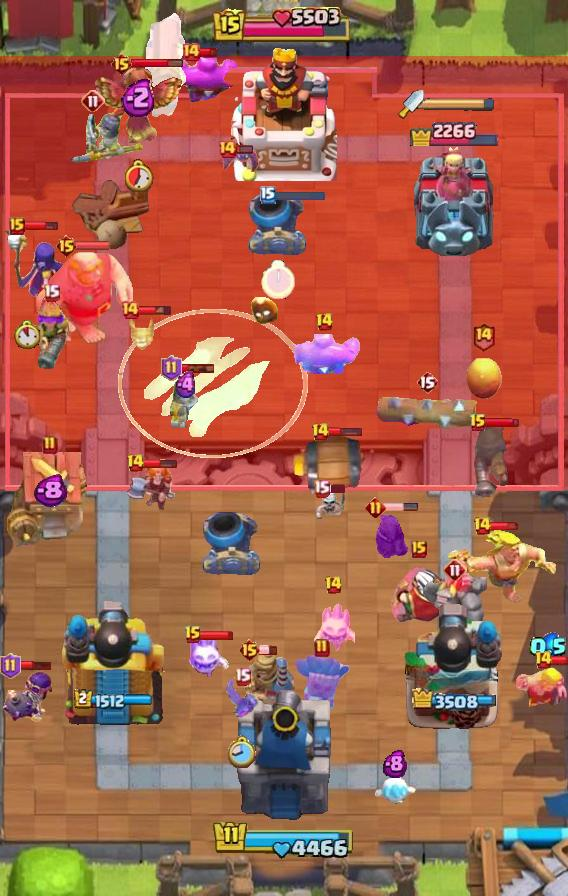bar: (274, 189, 326, 202), (131, 58, 184, 69), (23, 219, 59, 232), (484, 417, 520, 429), (138, 304, 173, 316), (17, 660, 53, 671), (142, 458, 178, 469), (75, 240, 111, 251), (328, 426, 363, 437), (180, 363, 215, 374), (200, 630, 234, 641), (383, 502, 419, 512), (489, 521, 521, 531), (551, 654, 568, 667), (327, 483, 347, 494), (259, 645, 278, 656), (235, 144, 254, 155), (199, 47, 218, 58)
bar-level: (471, 321, 496, 352), (443, 558, 467, 582), (81, 89, 105, 113), (238, 638, 261, 662), (55, 234, 78, 258), (110, 52, 133, 76), (0, 653, 21, 679), (161, 355, 182, 381), (416, 370, 438, 394), (365, 497, 386, 518), (120, 300, 140, 320), (217, 139, 237, 159), (181, 42, 201, 62), (534, 650, 553, 670), (324, 575, 343, 595), (473, 516, 492, 536), (126, 453, 145, 473), (311, 422, 330, 442), (315, 312, 334, 332), (184, 625, 202, 645), (469, 413, 487, 433), (234, 667, 251, 686), (313, 479, 330, 498), (43, 283, 60, 302), (314, 638, 330, 658), (42, 435, 58, 455), (411, 540, 427, 558), (9, 217, 25, 235), (260, 186, 276, 204)
barbarian: (516, 663, 568, 707)
barbarian-barrel: (291, 436, 371, 496)
bat: (221, 148, 261, 174)
bat-evolution: (224, 675, 260, 721)
bomber-evolution: (0, 669, 54, 725)
cannoneer-tower: (58, 595, 170, 731), (403, 601, 503, 731)
clock: (261, 260, 295, 300), (228, 735, 257, 770), (125, 159, 154, 192), (14, 320, 40, 349)
dagger-duchess-tower: (409, 142, 497, 256)
dagger-duchess-tower-bar: (424, 97, 496, 111)
dart-goblin: (292, 652, 352, 728)
elixir: (121, 77, 157, 117), (529, 632, 568, 662), (33, 474, 67, 508), (173, 371, 200, 399), (383, 749, 407, 778)
elixir-golem-mid: (287, 330, 361, 382), (171, 52, 239, 104)
fire-spirit: (250, 297, 280, 325)
golemite: (422, 571, 488, 633)
guard: (70, 104, 146, 168), (167, 371, 205, 433)
ice-spirit: (374, 774, 416, 810)
ice-spirit-evolution: (311, 599, 355, 653), (183, 631, 231, 679)
king-tower: (232, 686, 336, 826), (231, 45, 337, 181)
king-tower-bar: (212, 819, 356, 861), (213, 7, 355, 45)
lava-pup: (126, 312, 156, 350)
mini-pekka: (365, 510, 417, 562)
mortar: (202, 511, 262, 575), (248, 191, 308, 255)
musketeer: (30, 293, 72, 373), (471, 423, 509, 499)
phoenix-egg: (464, 353, 502, 401)
skeleton: (314, 489, 346, 523)
the-log: (376, 392, 479, 430)
tower-bar: (407, 115, 499, 146), (410, 688, 496, 712), (74, 689, 154, 710)
valkyrie: (124, 459, 176, 511)
witch: (0, 225, 76, 305)
